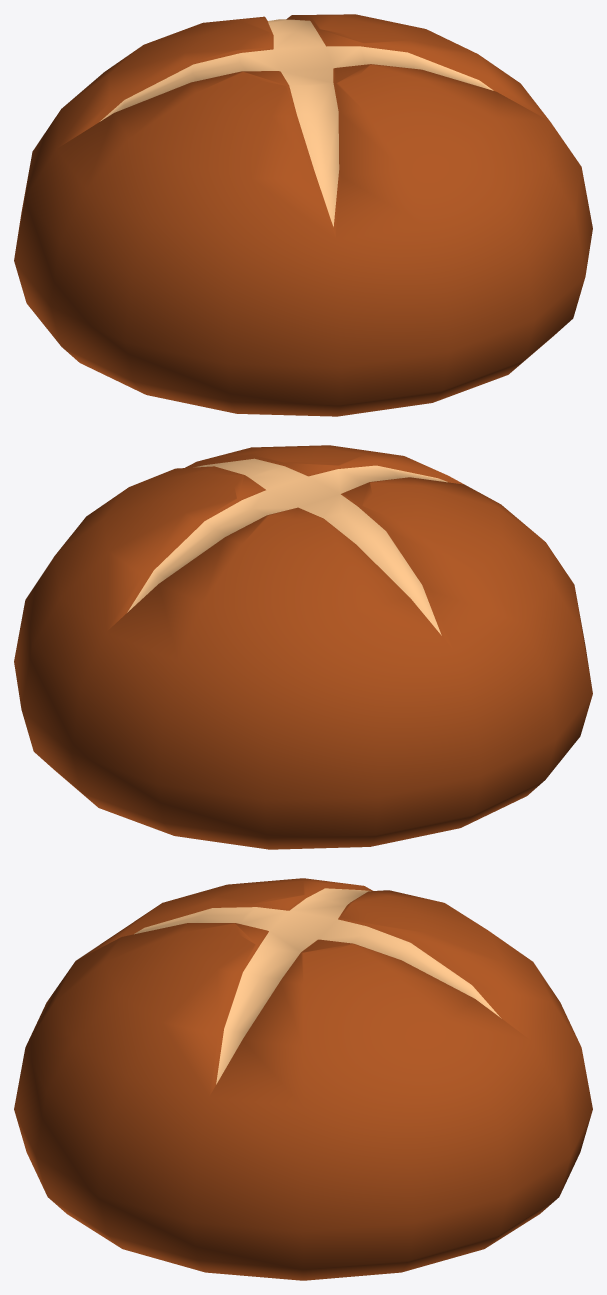
The model's file is Bread.fbx.
3 renders of one model, top to bottom at view 1: azimuth 30°, elevation 25°; view 2: azimuth 150°, elevation 25°; view 3: azimuth 270°, elevation 25°, orthographic.
Visible parts, largest first — view 1: Bread; view 2: Bread; view 3: Bread.
Boxes of the visible parts, x1,y1,x2,y2 form: Bread: (14, 14, 592, 416); Bread: (14, 445, 592, 849); Bread: (14, 878, 592, 1280).
Size of the model in its own units: 193 by 91.53 by 193.
